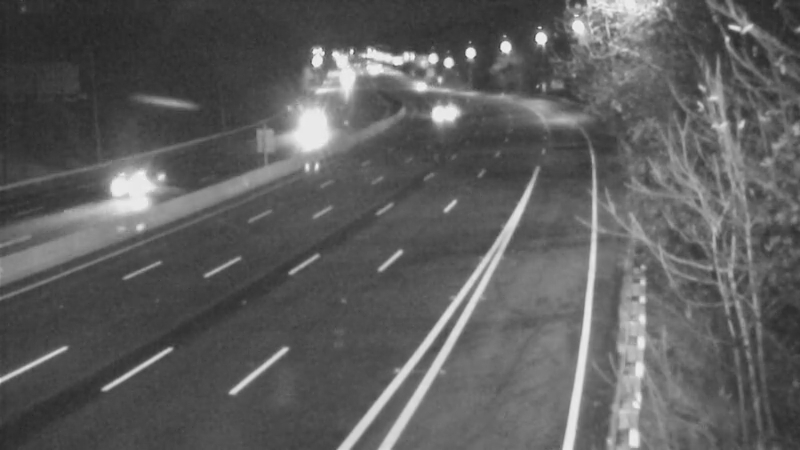vehicle: (92, 147, 172, 227), (392, 58, 442, 108), (411, 95, 461, 145), (289, 102, 339, 152)
